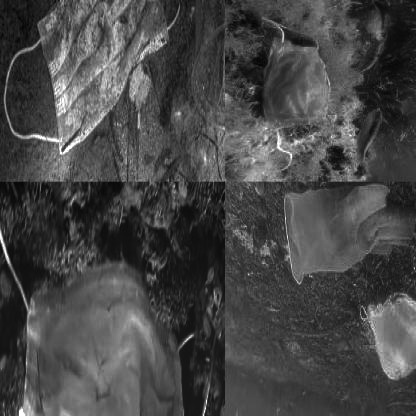Mask: (17, 257, 213, 415), (2, 0, 194, 158), (260, 8, 336, 175), (360, 290, 416, 384)
glove: (284, 182, 416, 287)
